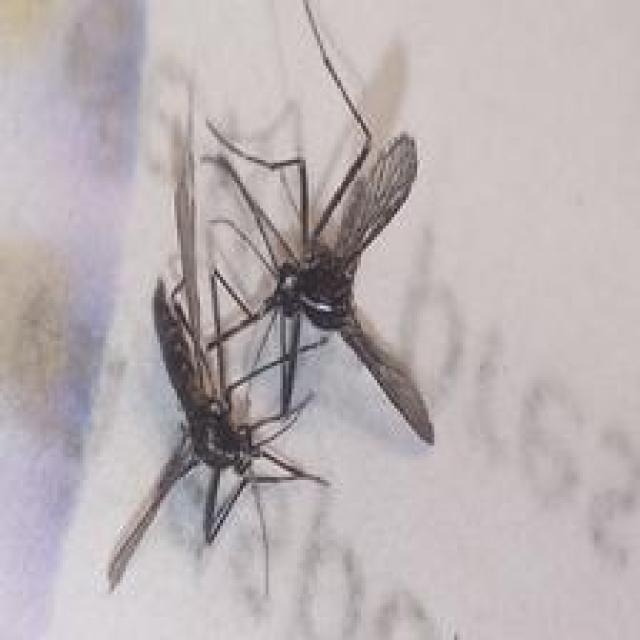Aedes albopictus: (103, 0, 437, 597)
